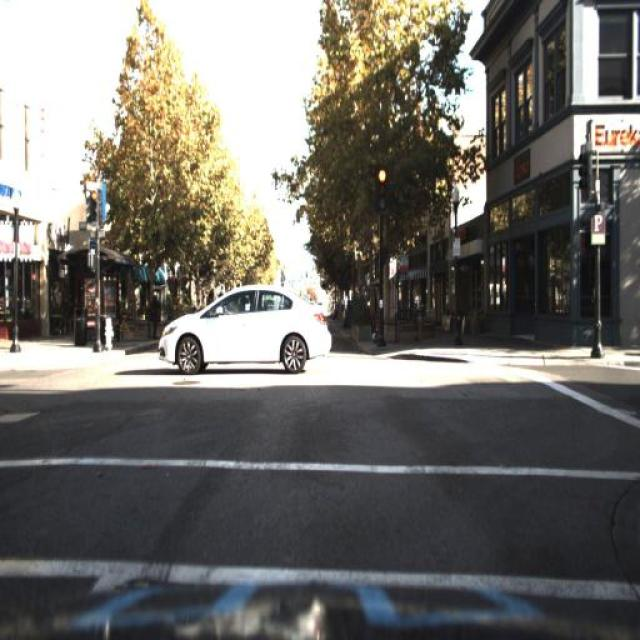car: (154, 278, 344, 377)
trafficLight-RedLeft: (86, 178, 108, 227), (373, 164, 388, 204), (86, 188, 99, 226)
